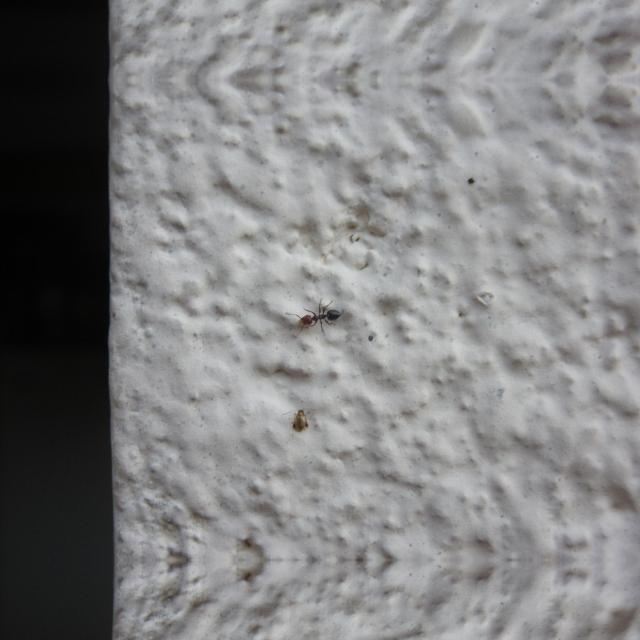Crematogaster: (293, 300, 339, 332)
